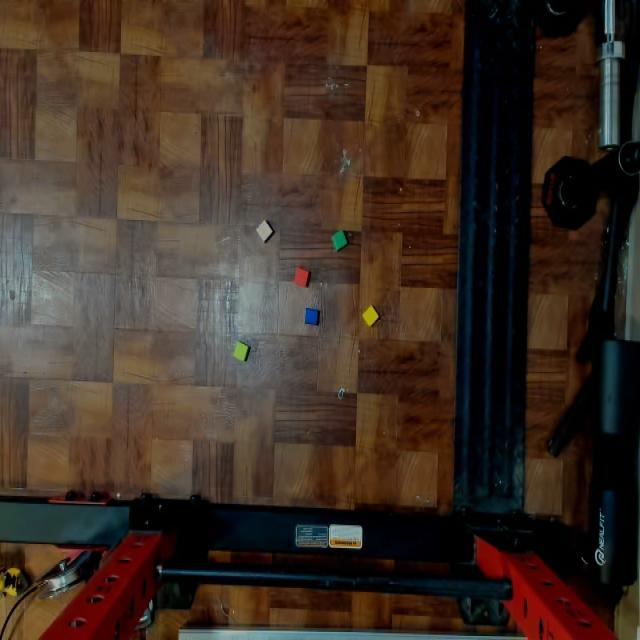block: (256, 221, 273, 241), (363, 305, 379, 325), (294, 265, 309, 284), (333, 231, 347, 251), (305, 308, 319, 323), (234, 345, 249, 359)
